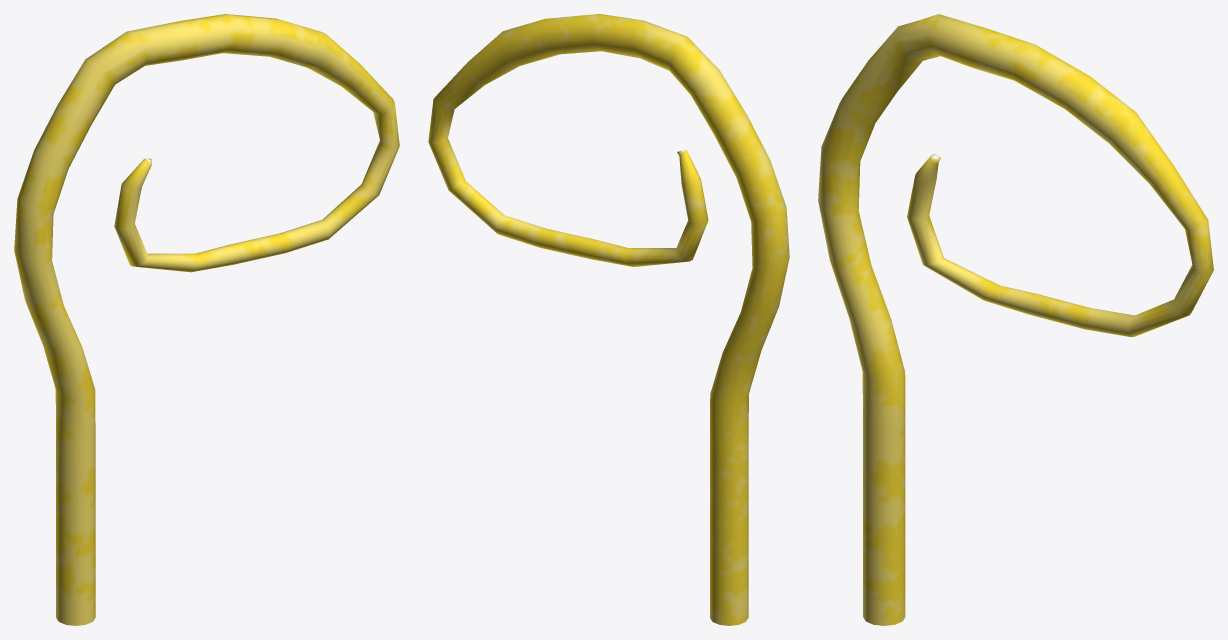
File: VinhaRoxa.fbx
3 views of the same model, side by side, from view 1: azimuth 30°, elevation 25°; view 2: azimuth 150°, elevation 25°; view 3: azimuth 330°, elevation 25° (orthographic). The views are drawn at different scales.
Parts seen in each view (by area): view 1: VinhaPendurar; view 2: VinhaPendurar; view 3: VinhaPendurar.
Part boxes in pixels (bbox=[...]): VinhaPendurar: bbox=[14, 14, 399, 625]; VinhaPendurar: bbox=[428, 14, 789, 625]; VinhaPendurar: bbox=[818, 14, 1213, 625].
Bounding box in the file's own units: 246 × 364 × 32.38.
